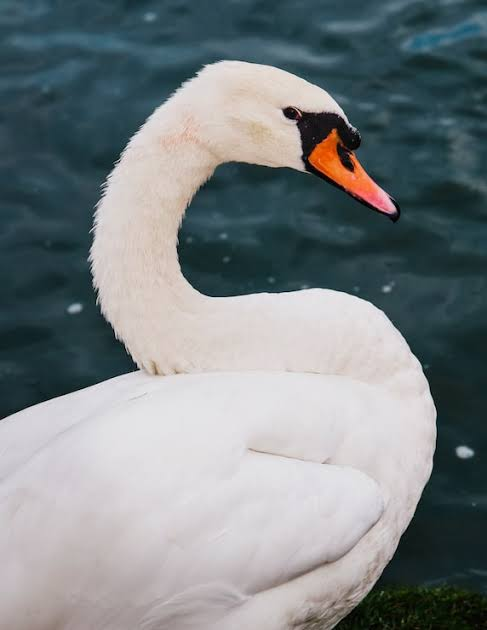swan: (0, 58, 438, 630)
